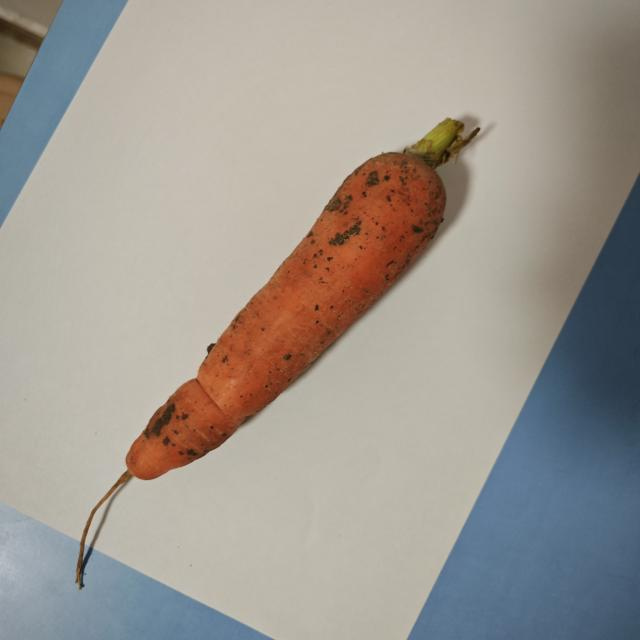-Kitchen waste - carrot-: (129, 110, 483, 482)
